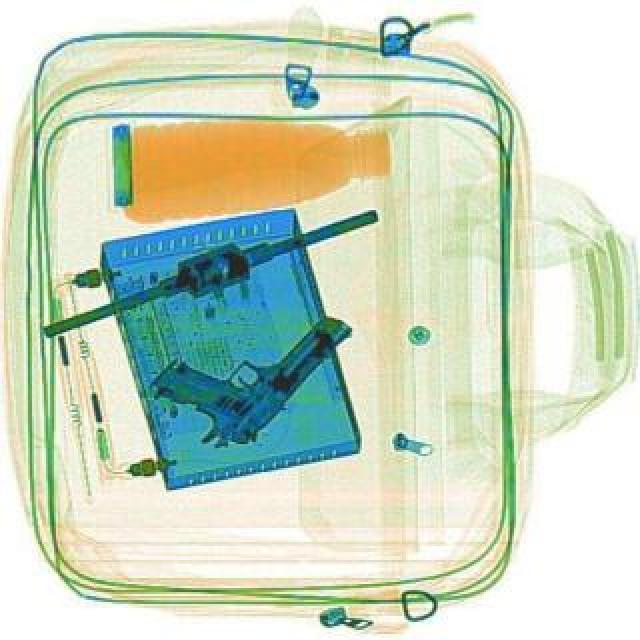gun: (134, 260, 350, 468)
